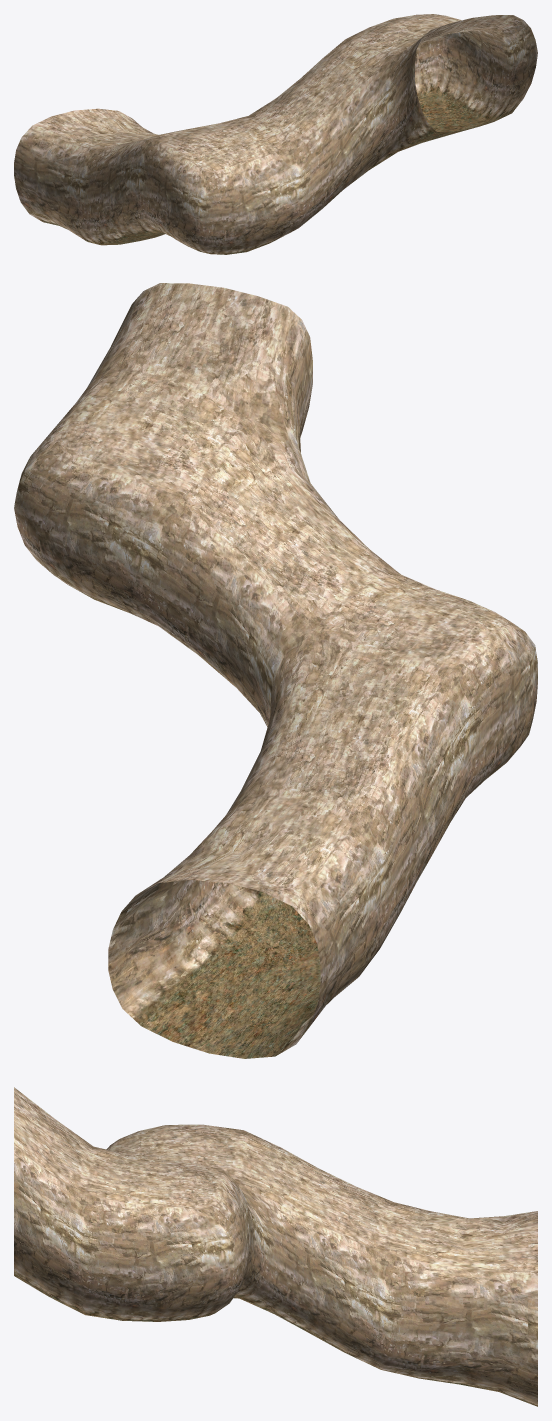
File: thm_all_cave_s01_r2_mesh_r2.fbx
The picture shows the model from 3 angles, top to bottom: view 1: azimuth 30°, elevation 25°; view 2: azimuth 150°, elevation 25°; view 3: azimuth 270°, elevation 25°; orthographic projection. The views are drawn at different scales.
Visible parts, largest first — view 1: mesh_node; view 2: mesh_node; view 3: mesh_node.
Part boxes in pixels (<box>): mesh_node: <box>14,14,537,254</box>; mesh_node: <box>14,283,537,1058</box>; mesh_node: <box>14,1087,537,1406</box>.
Size of the model in its own units: 33.65 by 29.66 by 35.32.
